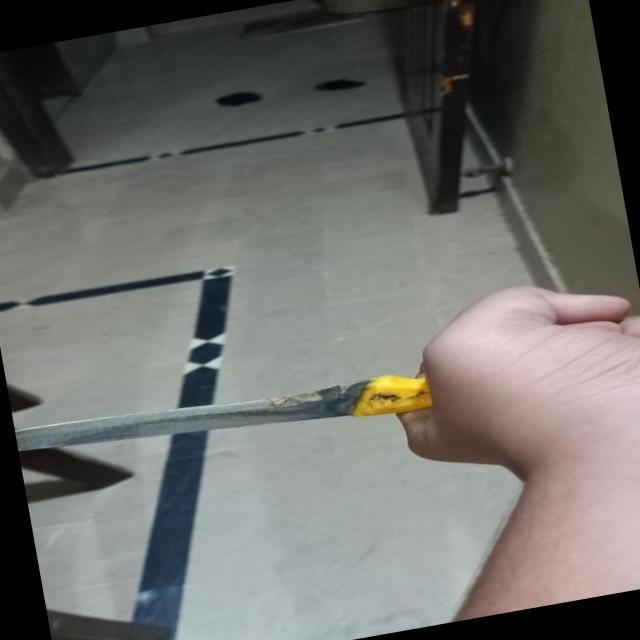Knife: (11, 298, 640, 483)
